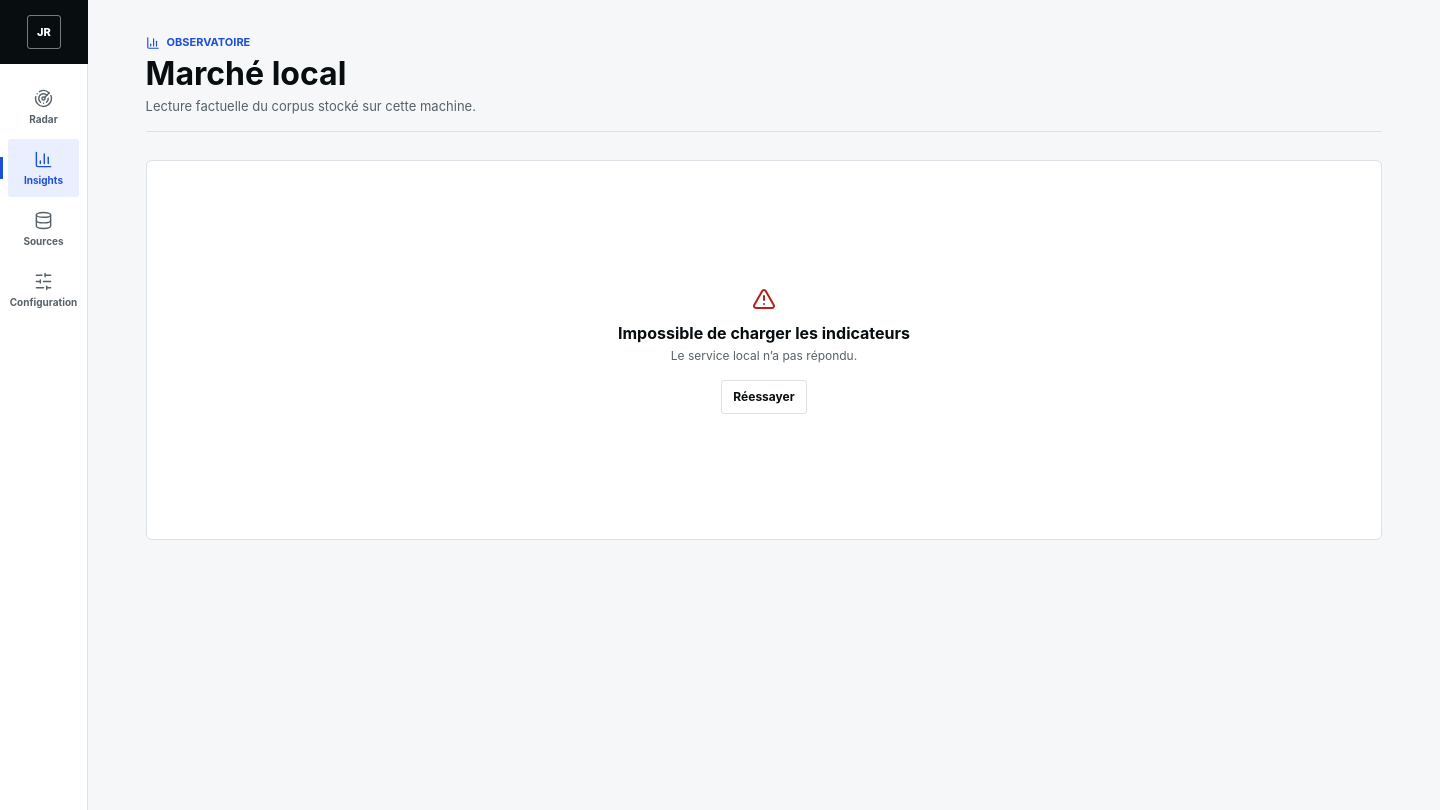
Test: InsightsPage › rend les états de chargement, erreur avec reprise, puis vide
Check: the message named "chargement des indicateurs" is shown, box left=146, top=160, right=1382, bottom=540
Check: the message shows "Impossible de charger", box left=618, top=322, right=910, bottom=342
What coordinates should you click on to do the following:
click the button "Réessayer"
I would click on:
 (764, 396)
Its box is left=721, top=380, right=807, bottom=414.
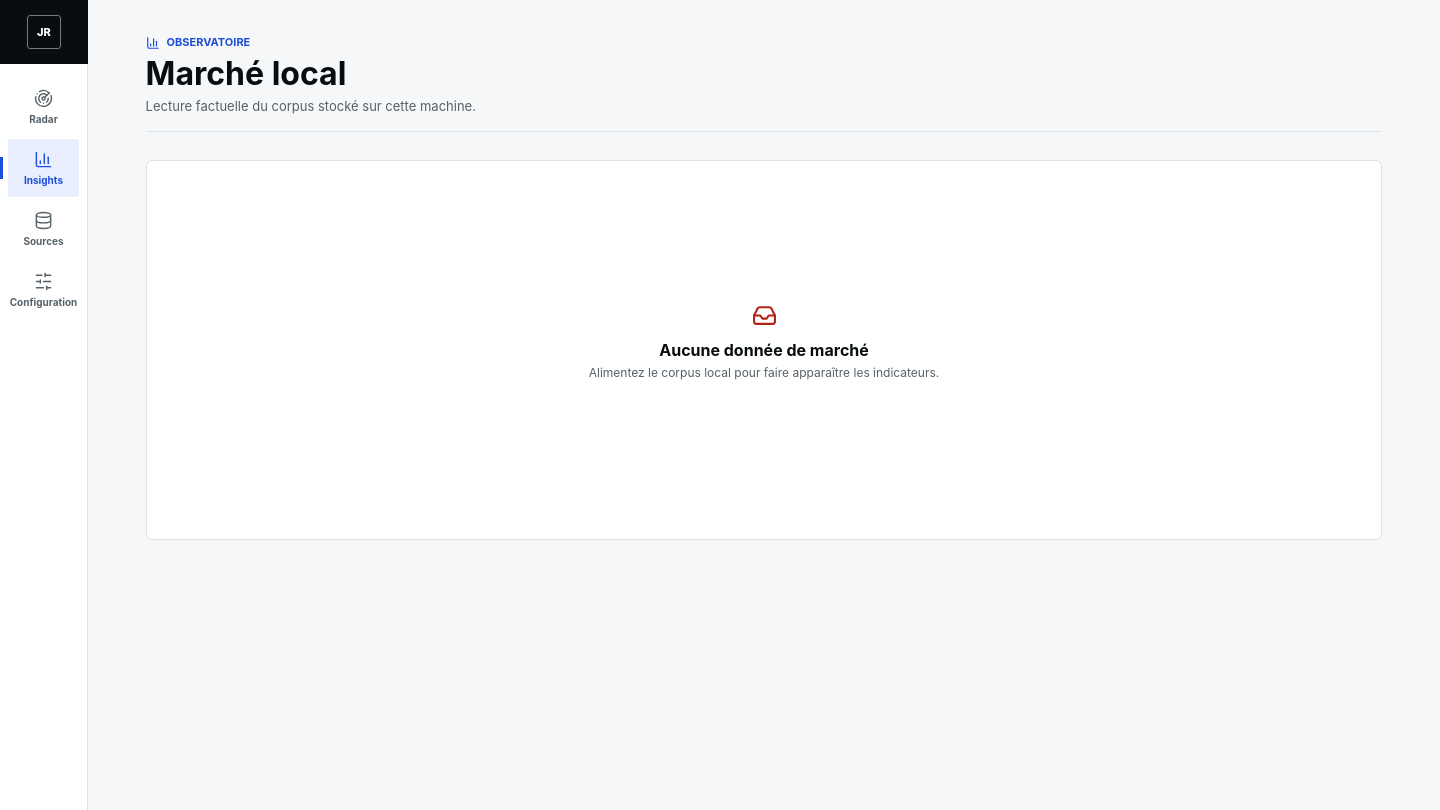
Check: the text "Alimentez le corpus local" is shown, box left=589, top=365, right=939, bottom=380
